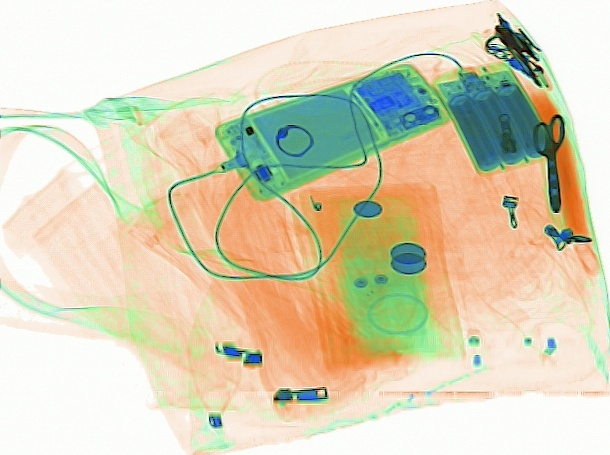powerbank: (429, 60, 551, 176)
scissors: (530, 110, 567, 214)
